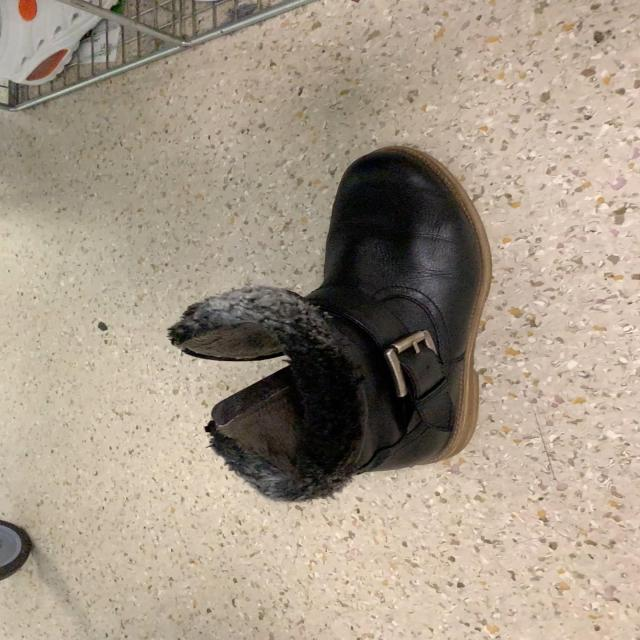shoe: (309, 148, 493, 466)
